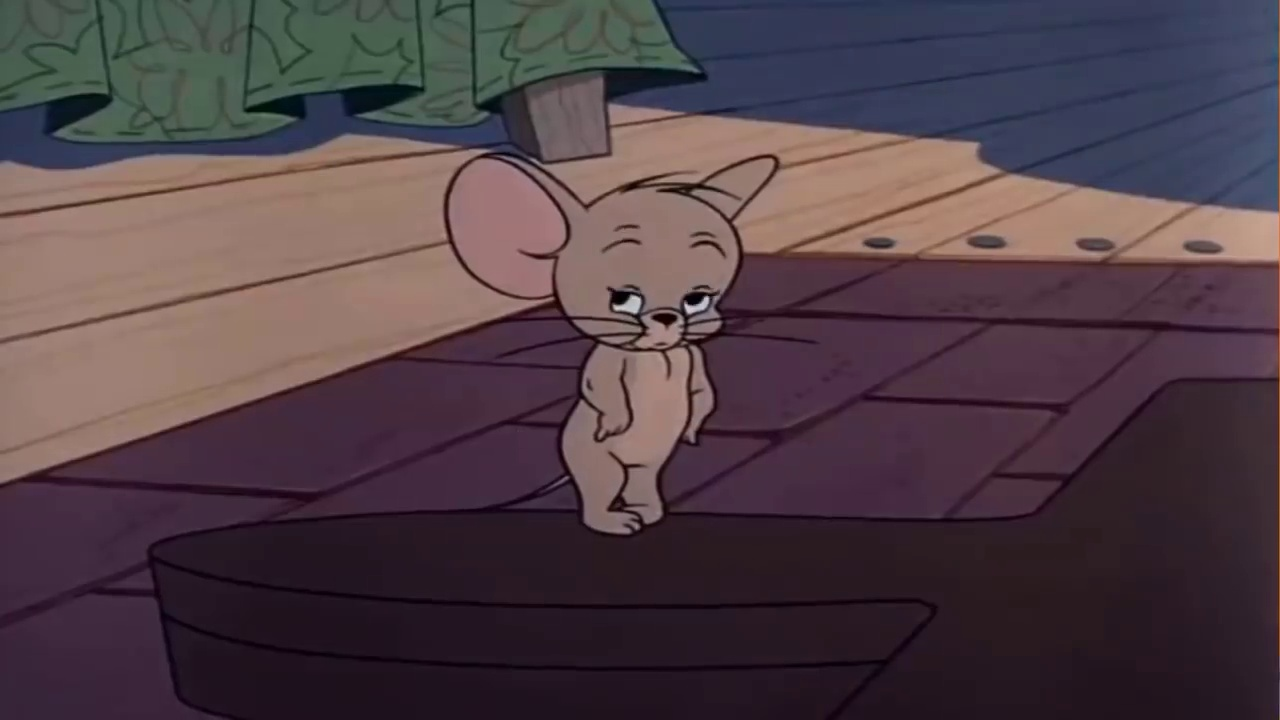face: (583, 218, 728, 347)
